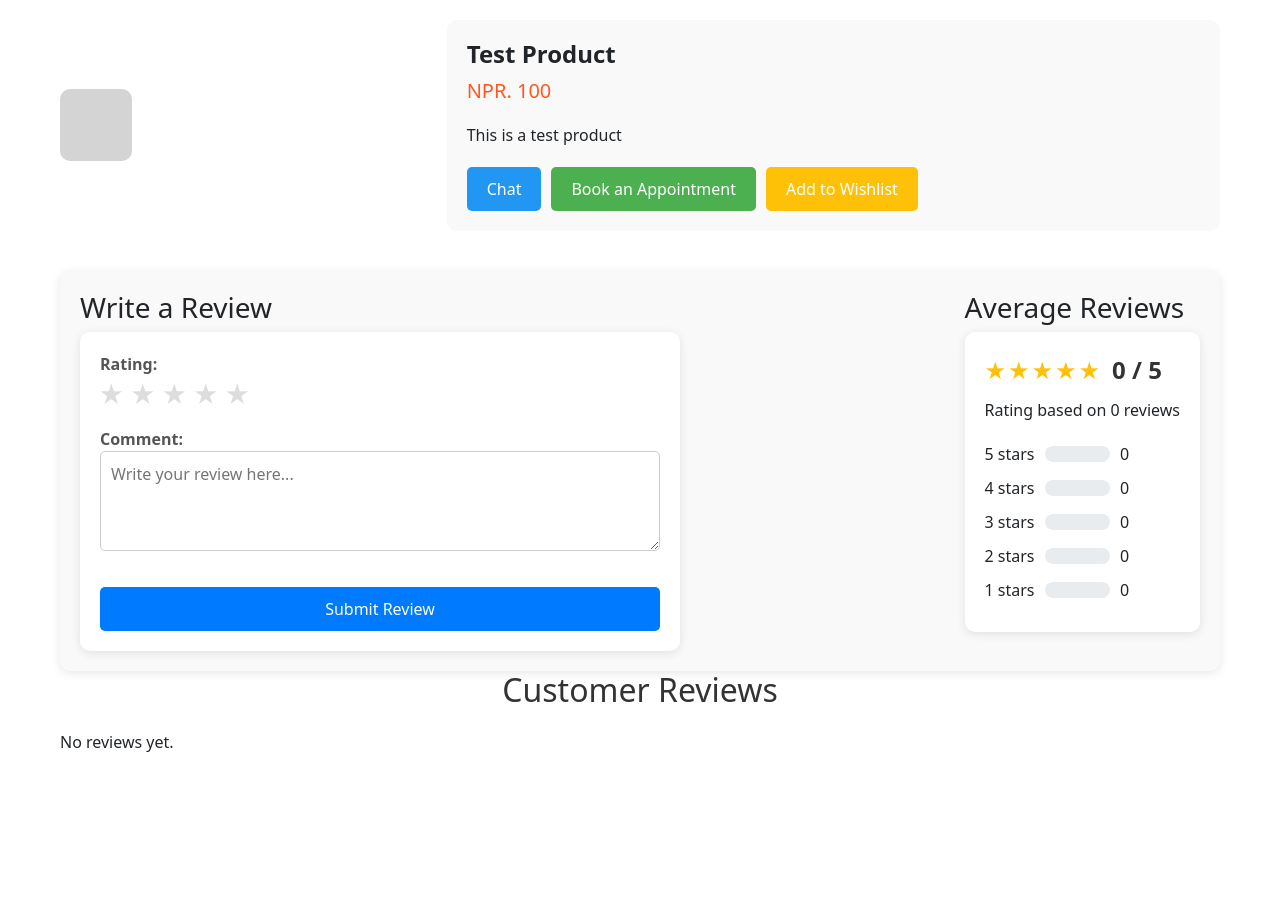
ProductPage Component Tests › adds and removes item from wishlist
Expected: the heading "Test Product" is shown, [467, 37, 616, 70]
Simulate clicking the "Add to Wishlist" button
Click the button "Add to Wishlist" at (842,189), box [766, 167, 918, 211]
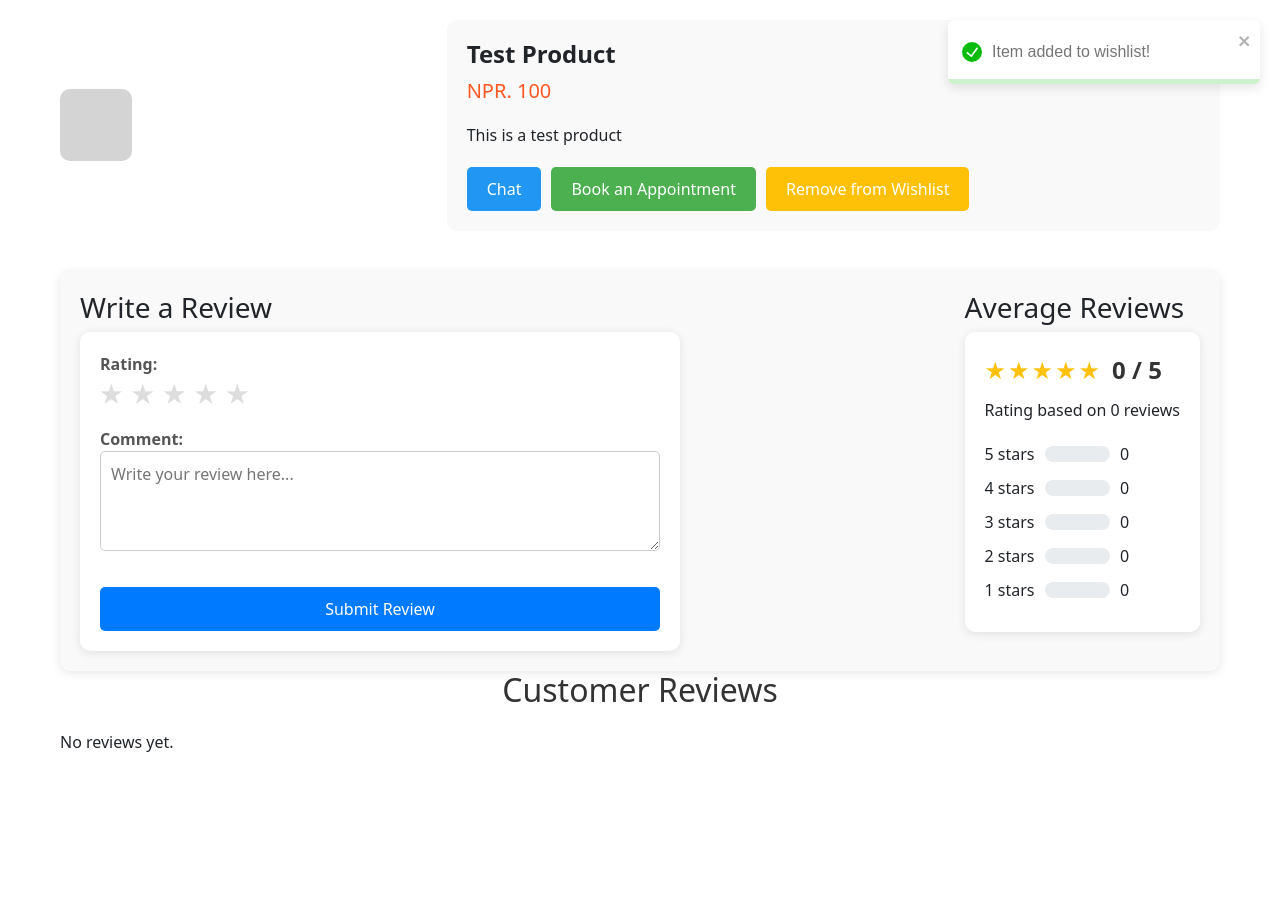
Expected: the button "Remove from Wishlist" is shown
Simulate clicking the "Remove from Wishlist" button
Click the button "Remove from Wishlist" at (868,189), box [766, 167, 970, 211]
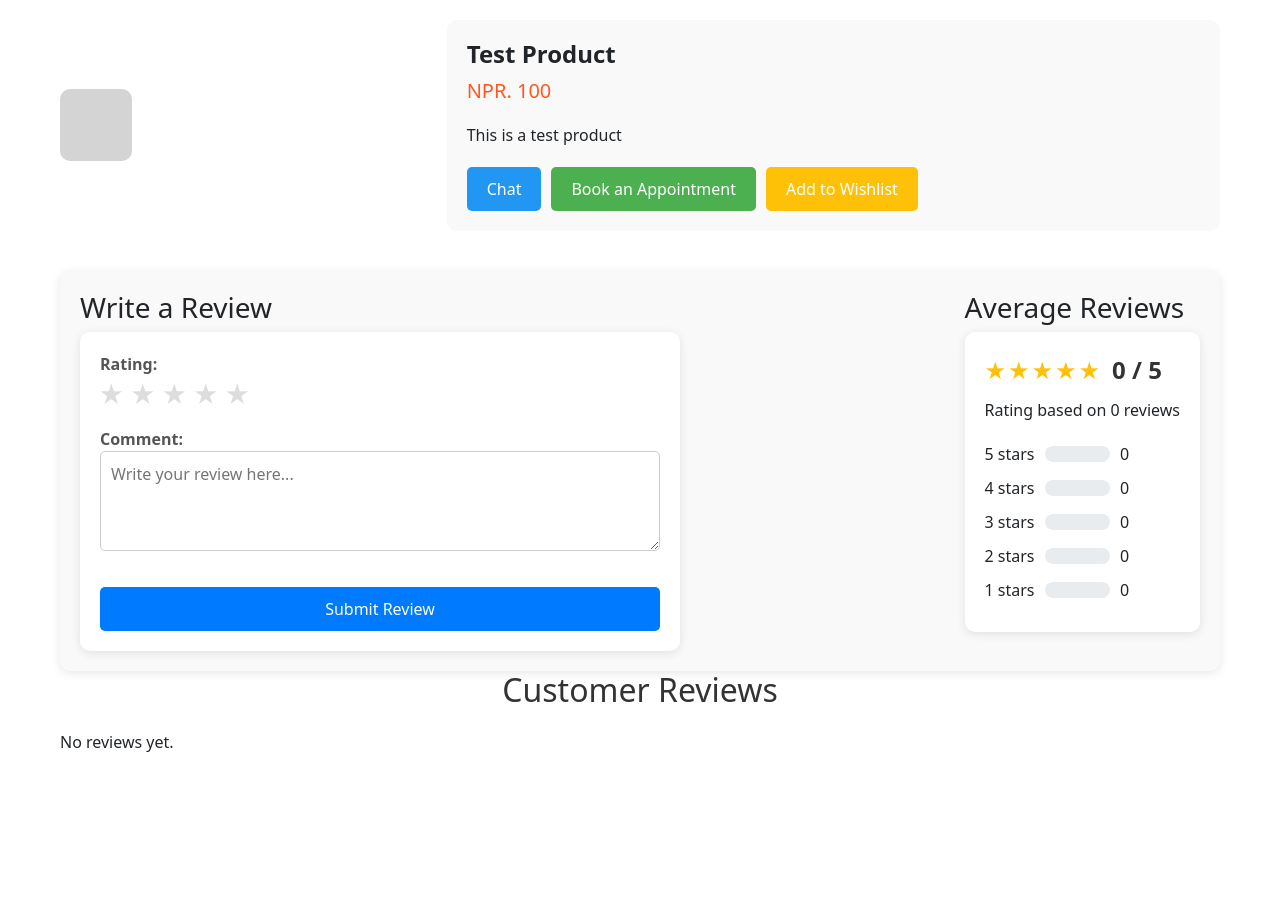
Expected: the button "Add to Wishlist" is shown, [766, 167, 918, 211]
